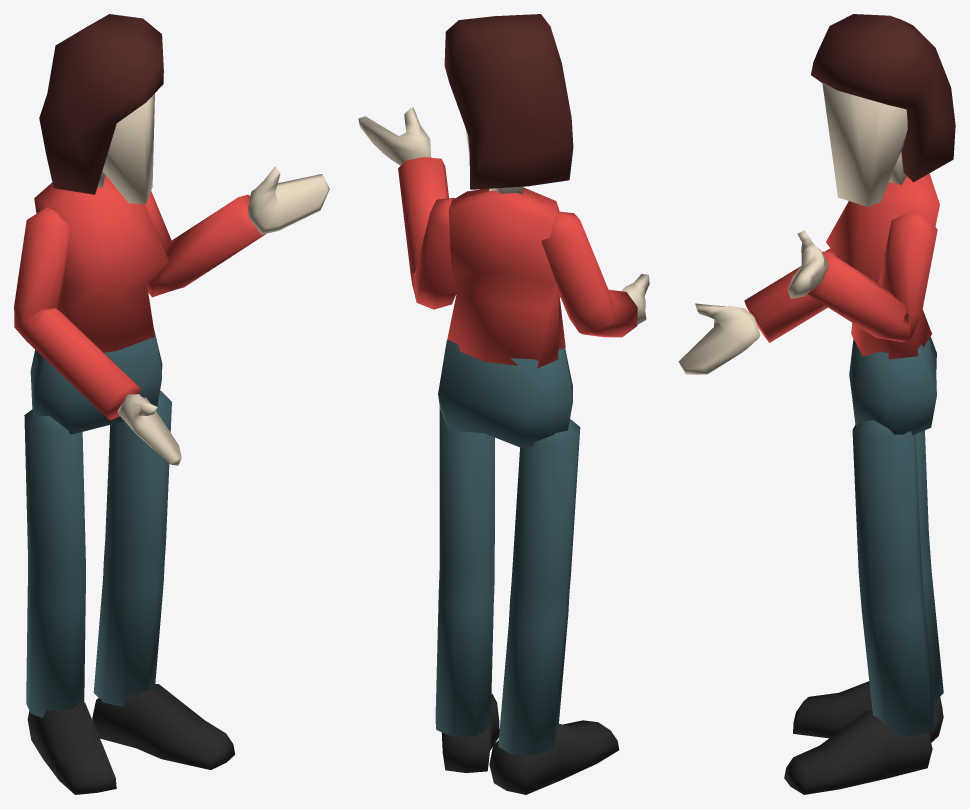
Rendered from mesh_VisitorD.fbx.
The picture shows the model from 3 angles, left to right: view 1: azimuth 30°, elevation 25°; view 2: azimuth 150°, elevation 25°; view 3: azimuth 270°, elevation 25°; orthographic projection. The views are drawn at different scales.
Parts seen in each view (by area): view 1: VisitorD; view 2: VisitorD; view 3: VisitorD.
Part boxes in pixels (x1,y1,x2,y2): VisitorD: [14, 14, 329, 794]; VisitorD: [358, 14, 649, 794]; VisitorD: [678, 14, 955, 794].
Size of the model in its own units: 42.04 by 103 by 35.56.
